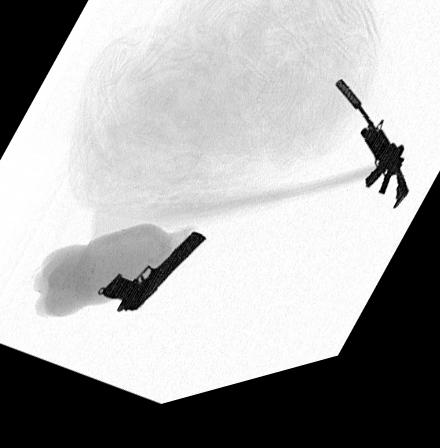Gun: (335, 95, 409, 229), (98, 240, 208, 318)
